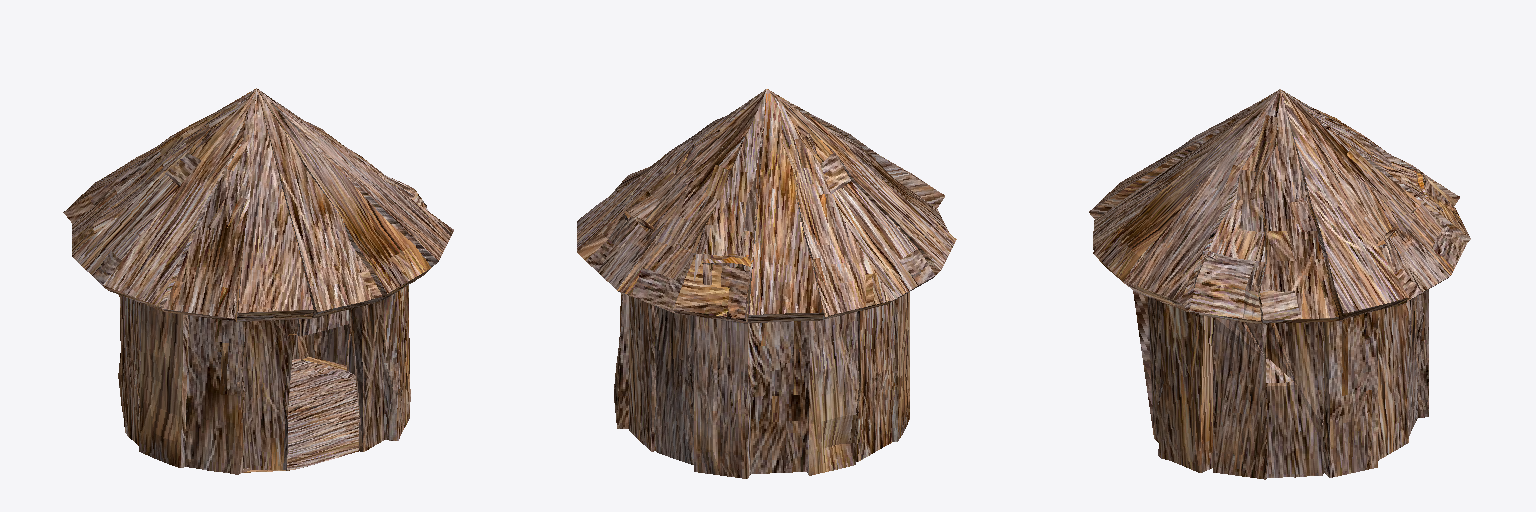
The picture shows the model from 3 angles: view 1: azimuth 30°, elevation 25°; view 2: azimuth 150°, elevation 25°; view 3: azimuth 270°, elevation 25°; orthographic projection.
Visible parts, largest first — view 1: Cylinder; view 2: Cylinder; view 3: Cylinder.
Boxes of the visible parts, x1,y1,x2,y2 form: Cylinder: [63, 88, 453, 474]; Cylinder: [577, 89, 956, 478]; Cylinder: [1089, 89, 1470, 479].
Bounding box in the file's own units: 5.58 × 5.47 × 5.66.
Materials: 2 (1 with a texture image).